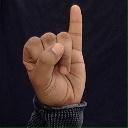hand: (22, 4, 86, 107)
